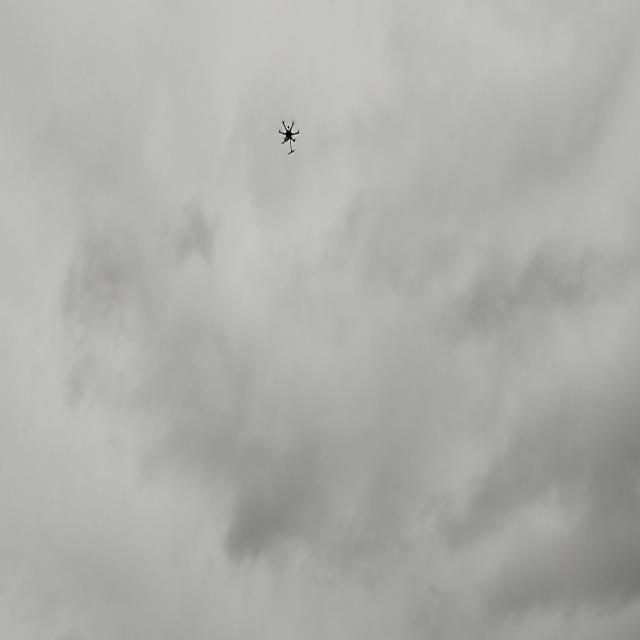drone: (278, 116, 302, 156)
